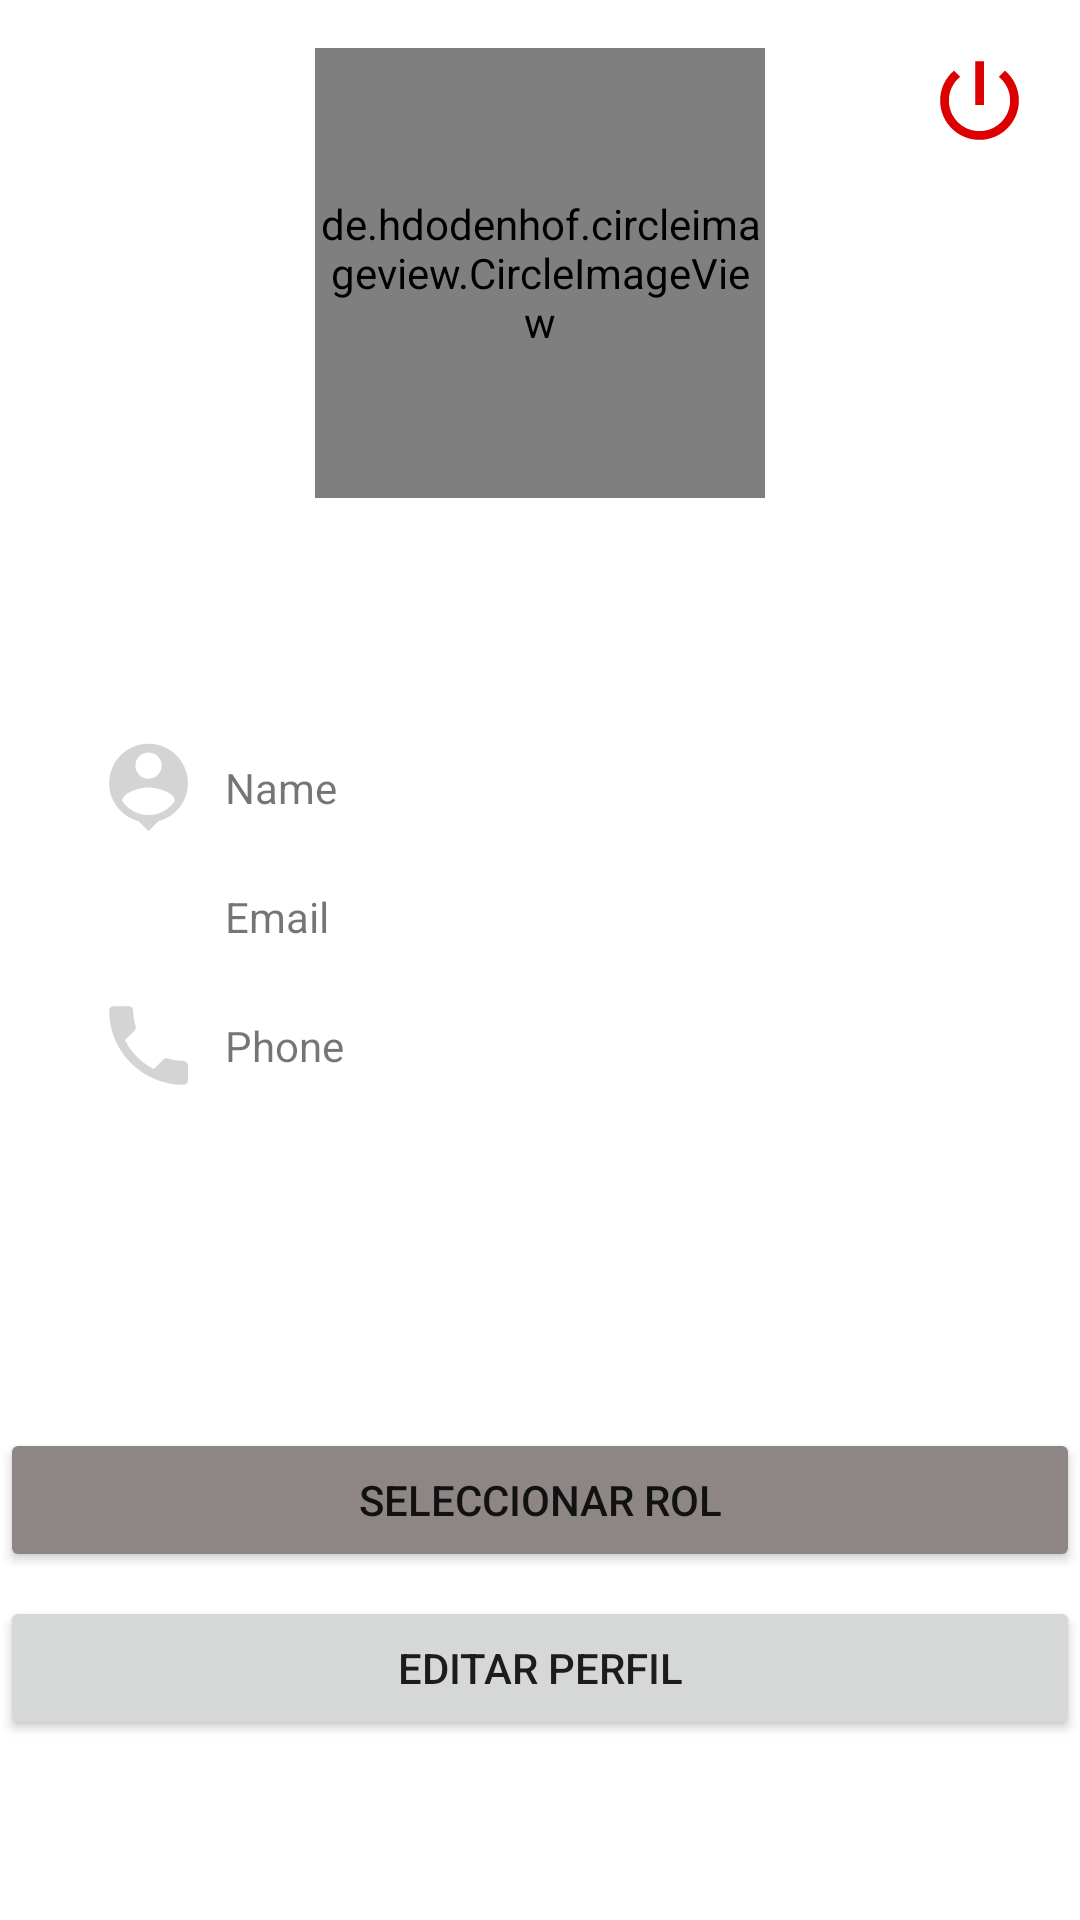

Icon bounding boxes for this 1080px x 1920px phone screenshot, format (x1, y1, x2, y2):
person pin: (109, 744, 188, 831)
power: (940, 61, 1019, 140)
